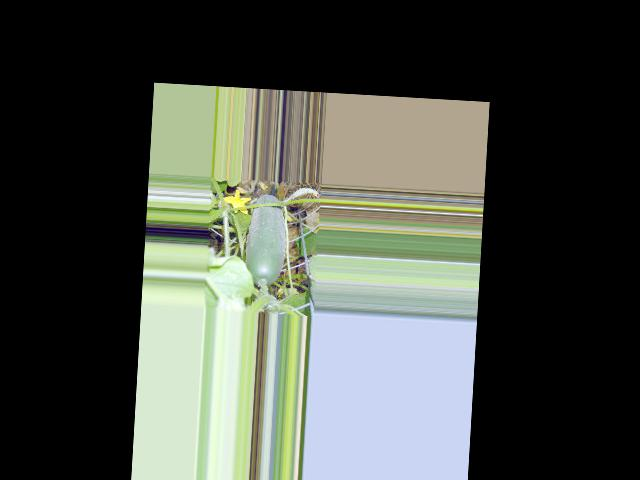cucumber: (244, 194, 289, 287)
